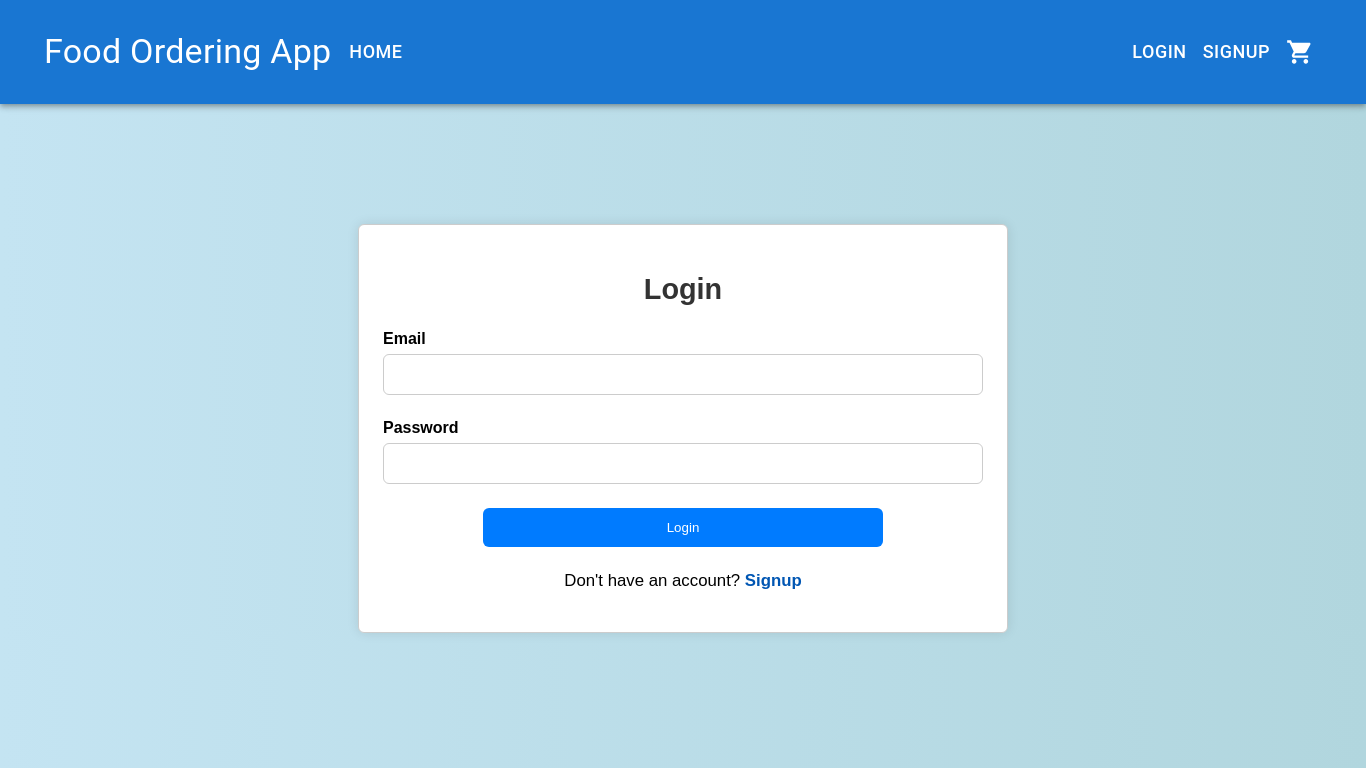
Test: Login Component › submits the form with valid credentials
Type "test@example.com" into the field with test id "email-input" at (683, 374), box [383,354,983,395]
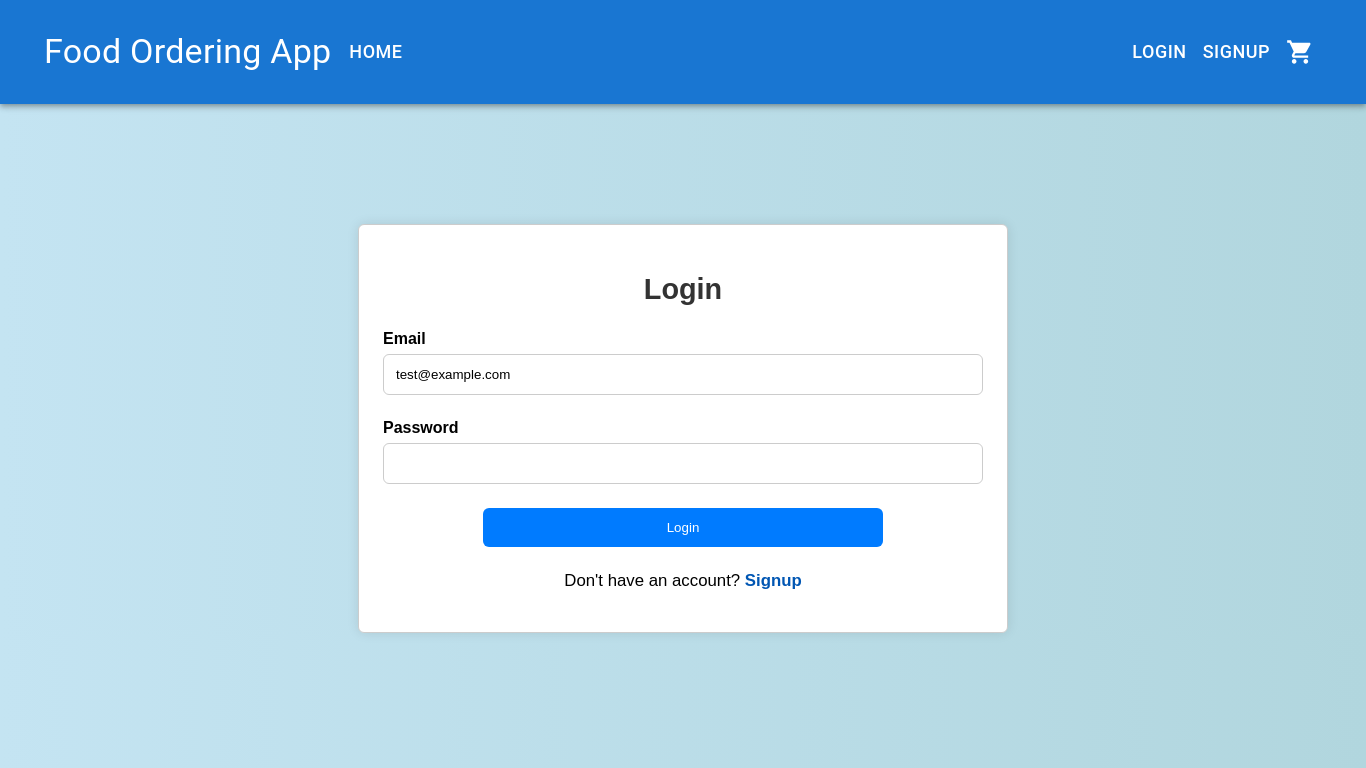
Type "password123" into the password field with test id "password-input" at (683, 463), box [383,443,983,484]
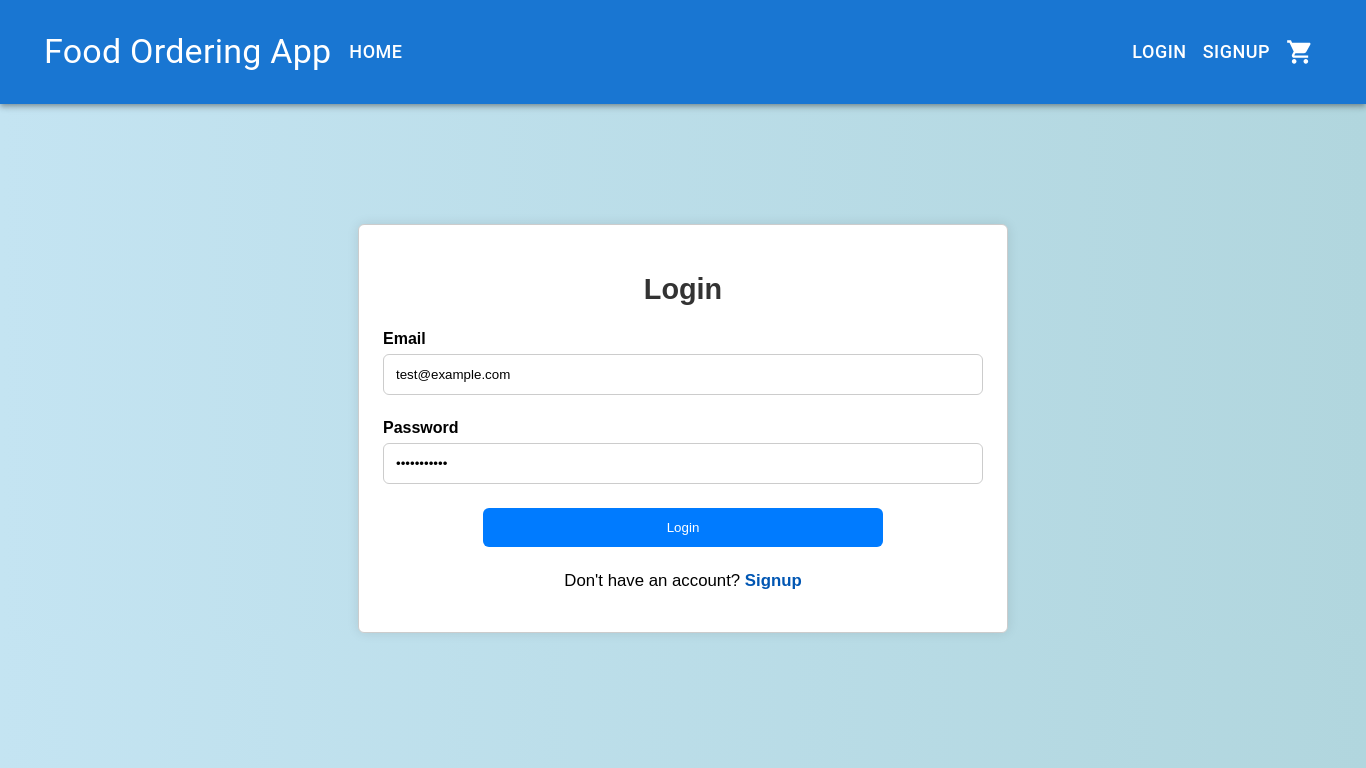
Click the button with test id "login-button" at (683, 527), box [483,508,883,547]
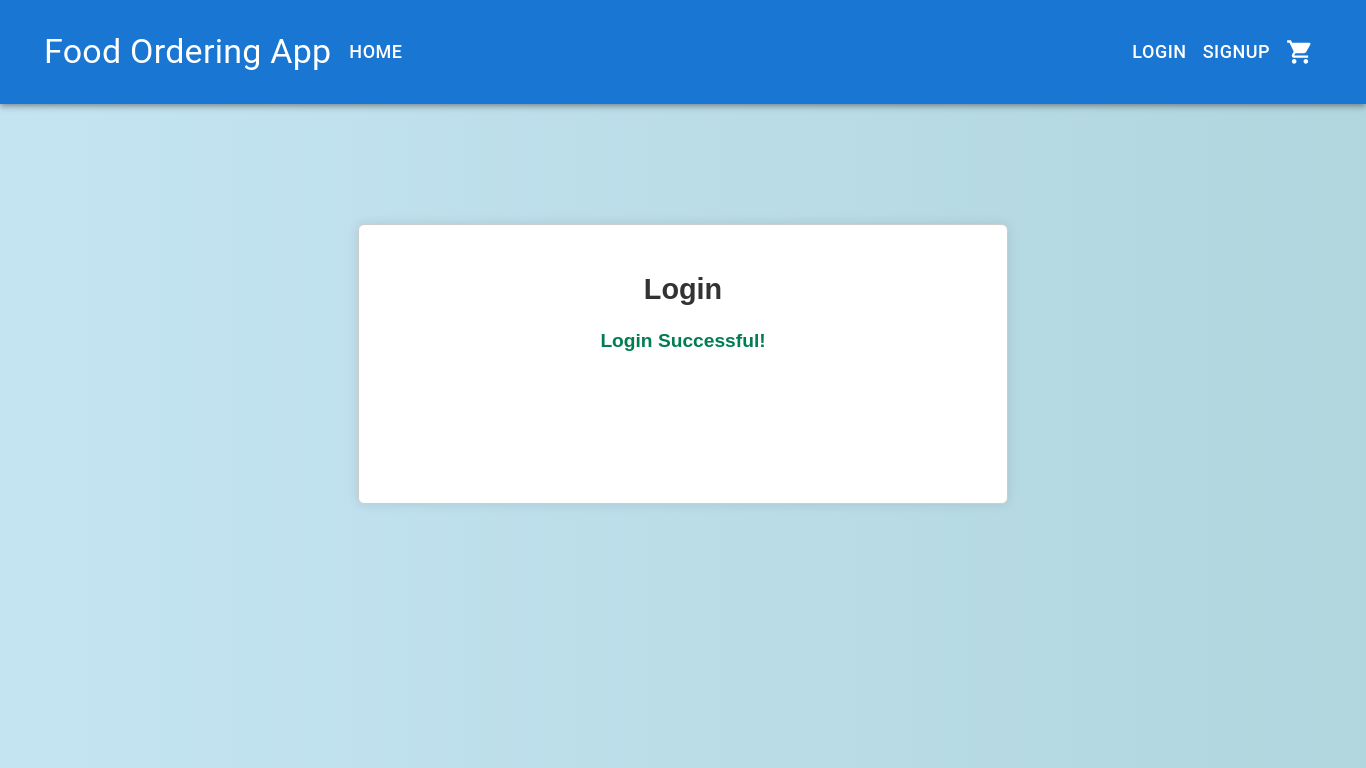
Result: the text "Login Successful!" is shown at [600,330,766,351]
